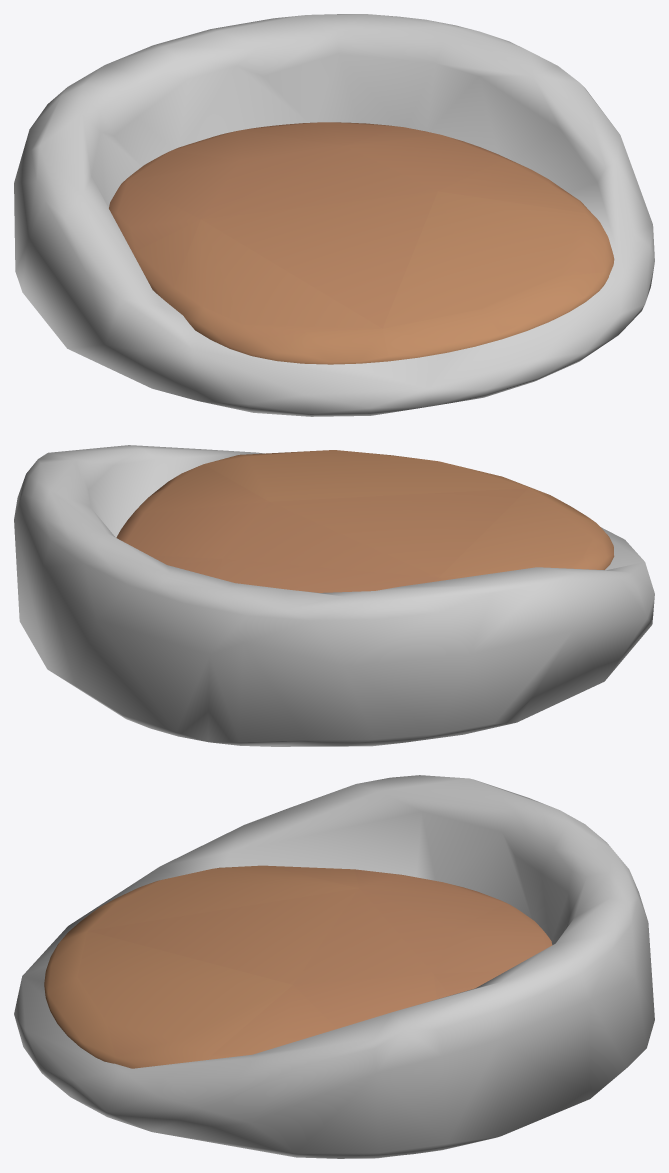
Rendered from home1.fbx.
3 views of the same model, one above another, from view 1: azimuth 30°, elevation 25°; view 2: azimuth 150°, elevation 25°; view 3: azimuth 270°, elevation 25° (orthographic).
Parts seen in each view (by area): view 1: bed, pillow; view 2: bed, pillow; view 3: bed, pillow.
Part boxes in pixels (x1,y1,x2,y2): bed: [14, 14, 654, 416]; pillow: [109, 122, 614, 364]; bed: [14, 445, 654, 746]; pillow: [116, 450, 614, 592]; bed: [14, 775, 654, 1158]; pillow: [44, 865, 552, 1068].
Size of the model in its own units: 31.39 by 7.97 by 31.56.
